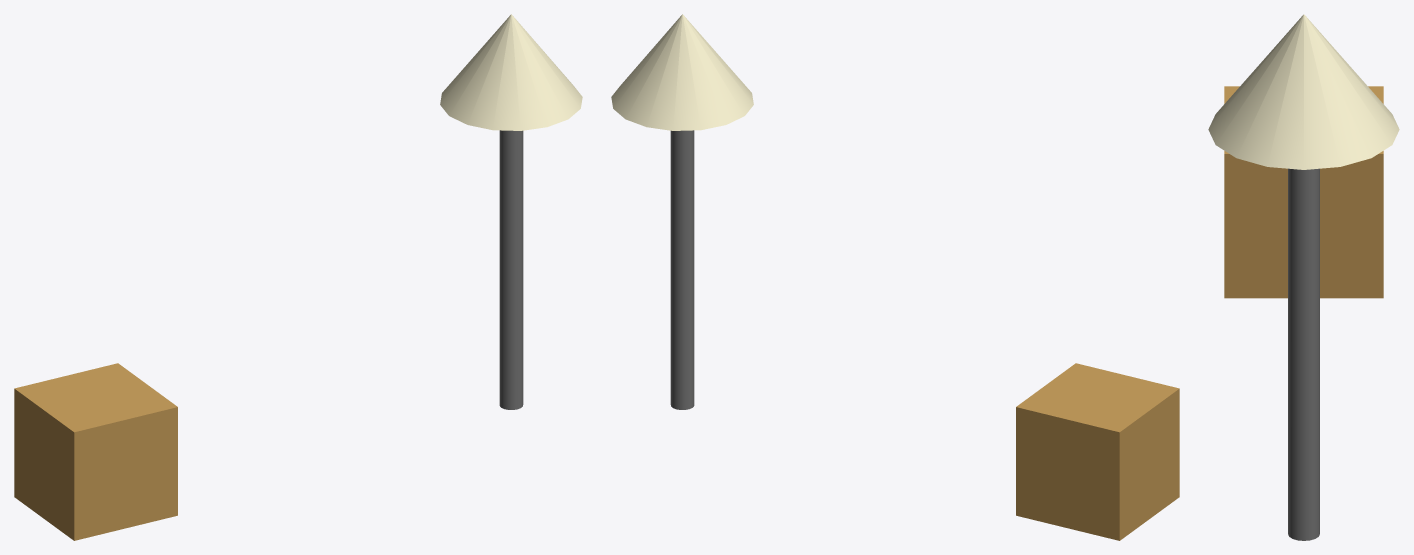
File: space.gltf
The picture shows the model from 3 angles, left to right: view 1: azimuth 30°, elevation 25°; view 2: azimuth 150°, elevation 25°; view 3: azimuth 270°, elevation 25°; orthographic projection. The views are drawn at different scales.
Parts seen in each view (by area): view 1: crate-01, lamp-shade, lamp-stand; view 2: crate-01, lamp-shade, lamp-stand; view 3: crate-01, lamp-shade, lamp-stand.
Part boxes in pixels (bbox=[...]): crate-01: bbox=[14, 363, 177, 540]; lamp-shade: bbox=[440, 14, 582, 130]; lamp-stand: bbox=[499, 130, 523, 409]; crate-01: bbox=[1016, 363, 1179, 540]; lamp-shade: bbox=[611, 14, 753, 130]; lamp-stand: bbox=[670, 130, 694, 409]; crate-01: bbox=[1224, 86, 1383, 298]; lamp-shade: bbox=[1208, 14, 1399, 169]; lamp-stand: bbox=[1288, 168, 1319, 540].
Size of what is drawn, in the model's own units: 2.55 by 1.8 by 0.6.
